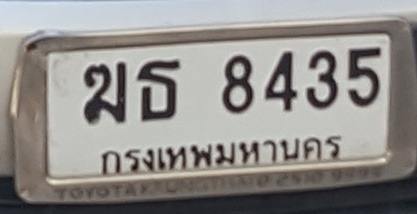txt04: (79, 59, 129, 125)
txt19: (133, 55, 182, 122)
